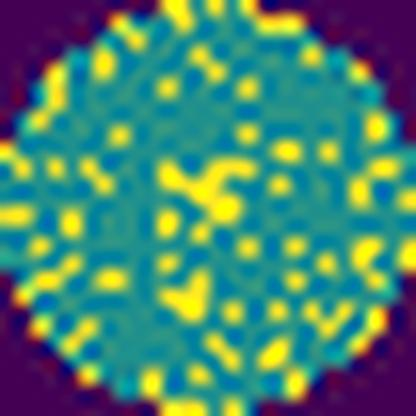Center: (152, 145, 264, 228)
